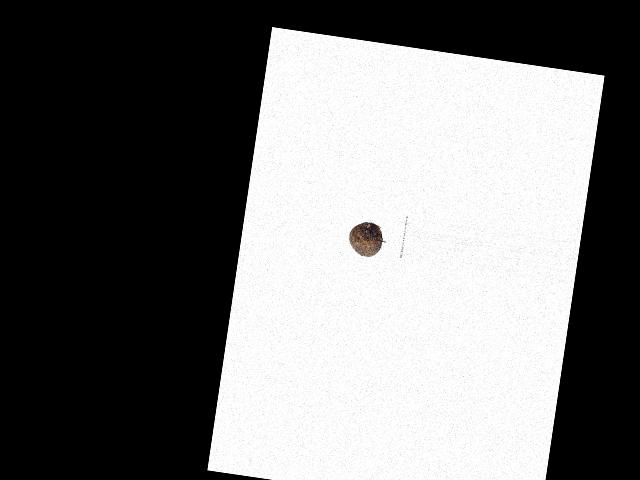beet: (347, 220, 384, 259)
